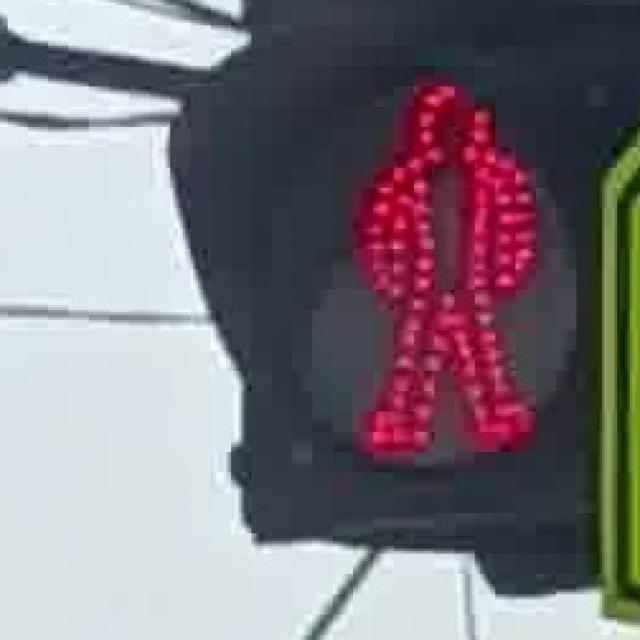red_light: (340, 51, 546, 480)
